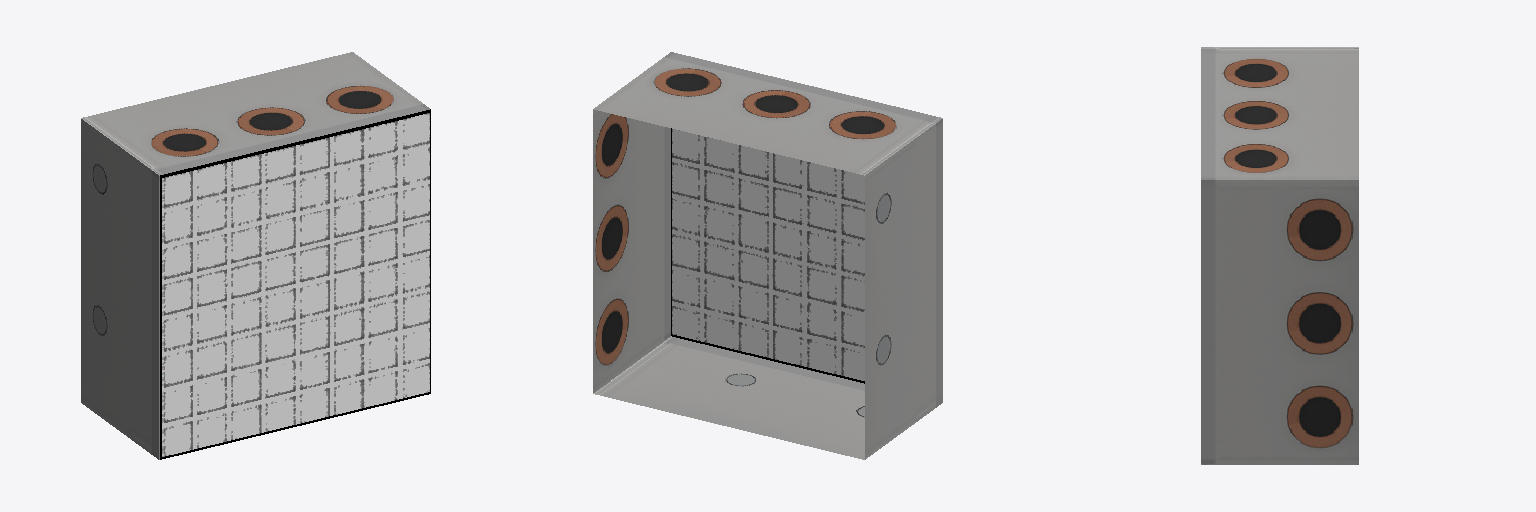
3 renders of one model, left to right at view 1: azimuth 30°, elevation 25°; view 2: azimuth 150°, elevation 25°; view 3: azimuth 270°, elevation 25°, orthographic.
Visible parts, largest first — view 1: smartblock; view 2: smartblock; view 3: smartblock.
Boxes of the visible parts, <box> form: smartblock: <box>81,52,430,459</box>; smartblock: <box>593,52,942,459</box>; smartblock: <box>1201,47,1358,464</box>.
Bounding box in the file's own units: 25 × 25 × 12.5.
2 materials, 1 textured.